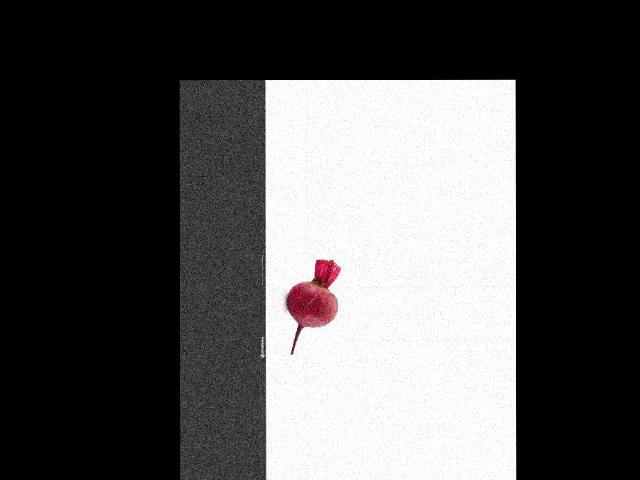beet: (286, 258, 340, 354)
